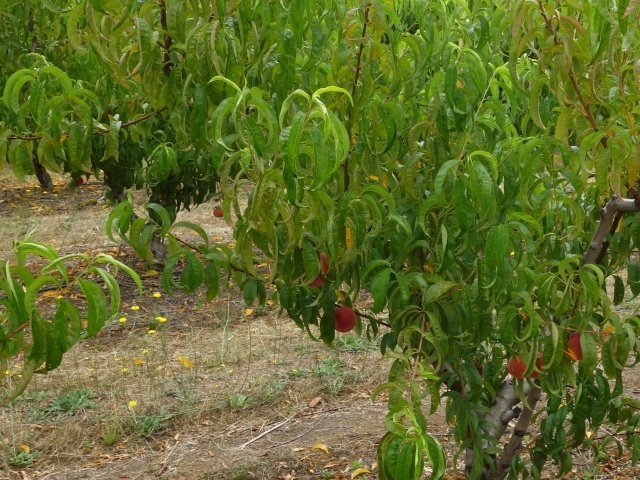peach: (306, 252, 334, 290), (328, 302, 359, 335), (561, 327, 586, 363), (505, 348, 531, 382)
